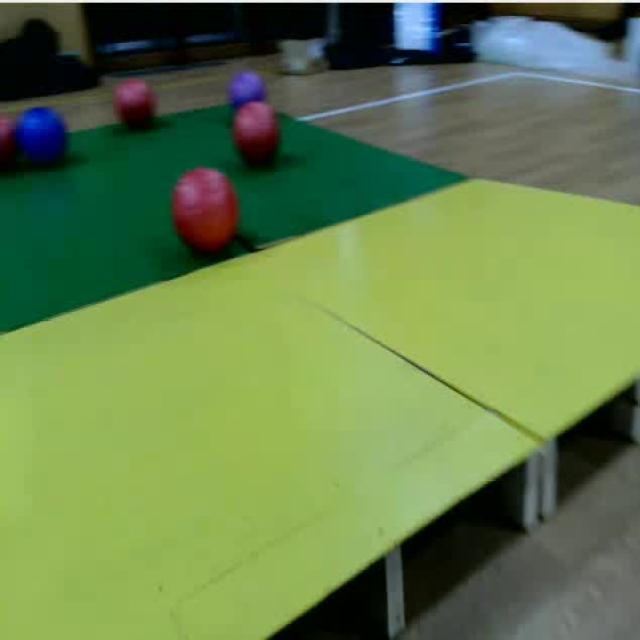blue_ball: (15, 100, 72, 180)
purple_ball: (229, 66, 274, 130)
red_ball: (172, 161, 240, 253), (230, 96, 283, 168), (115, 76, 161, 132), (0, 110, 16, 175)
